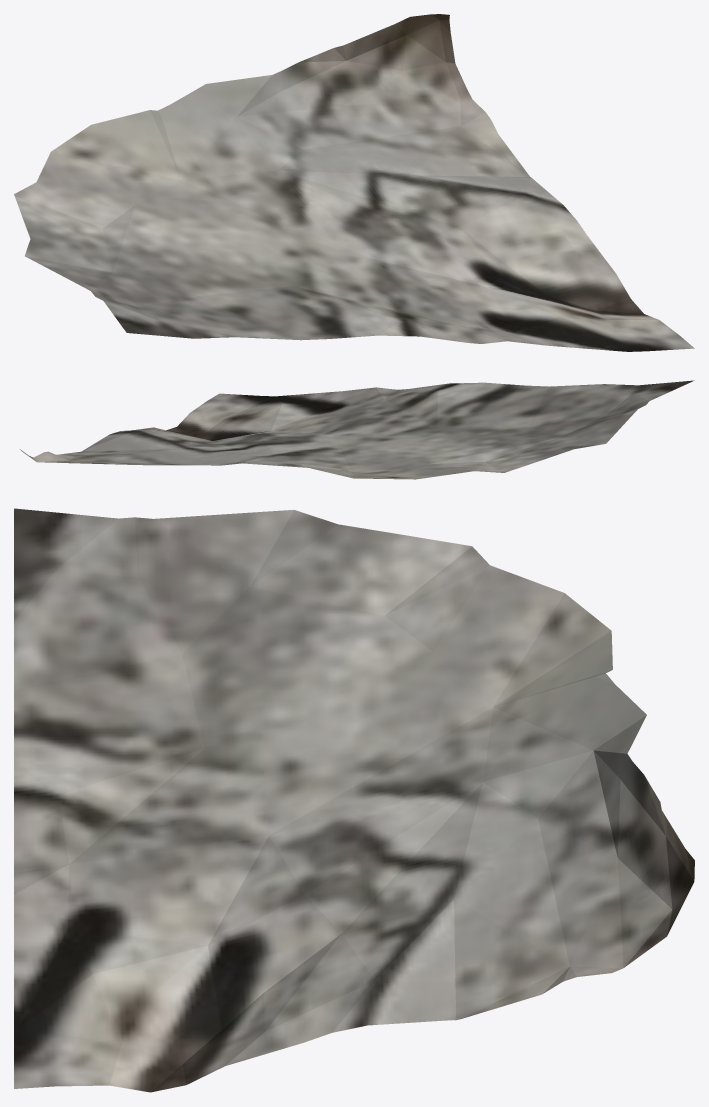
3 views of the same model, one above another, from view 1: azimuth 30°, elevation 25°; view 2: azimuth 150°, elevation 25°; view 3: azimuth 270°, elevation 25° (orthographic). The views are drawn at different scales.
Size of the model in its own units: 0.4925 by 0.1299 by 0.38.
1 material, 1 textured.
